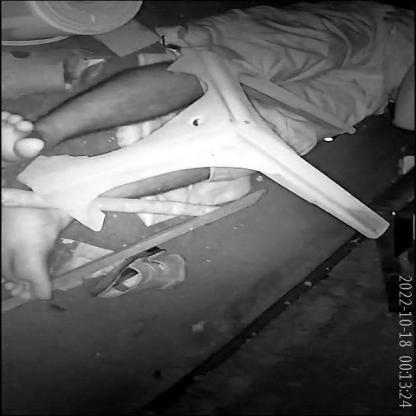leg: (0, 56, 198, 171), (0, 195, 78, 310)
